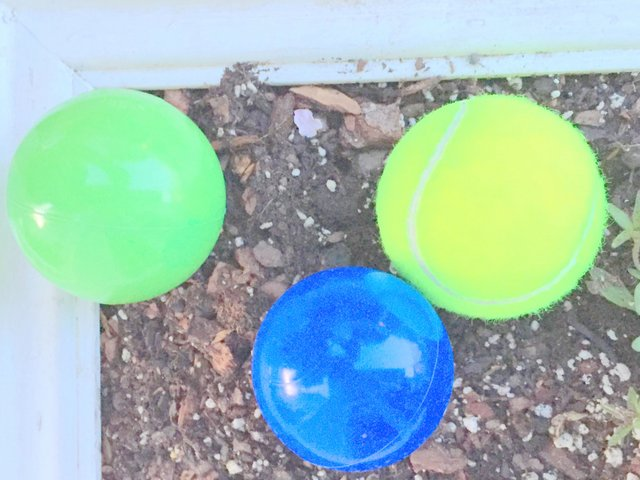ball: (251, 267, 456, 474)
